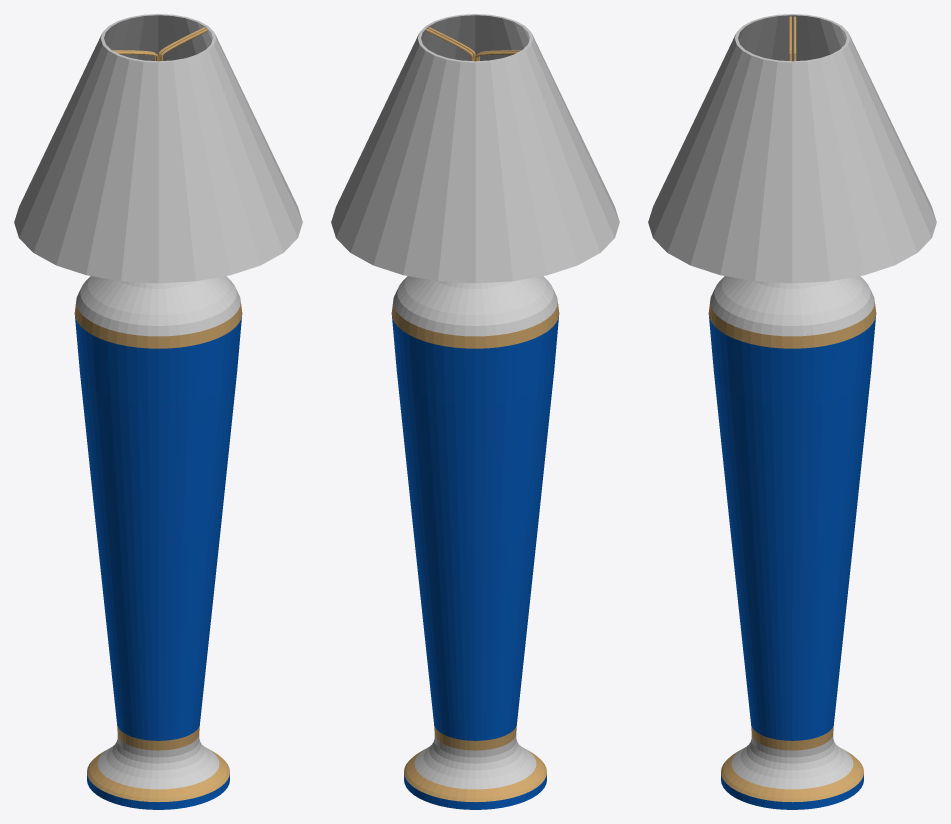
Rendered from pedestal-vase-lamp.obj.
3 renders of one model, left to right at view 1: azimuth 30°, elevation 25°; view 2: azimuth 150°, elevation 25°; view 3: azimuth 270°, elevation 25°, orthographic.
Parts seen in each view (by area): view 1: Pedestal_vase, Lamp_shade; view 2: Pedestal_vase, Lamp_shade; view 3: Pedestal_vase, Lamp_shade.
Boxes of the visible parts, box(x1,y1,x2,y2) form: Pedestal_vase: box(74, 276, 242, 809); Lamp_shade: box(14, 14, 302, 283); Pedestal_vase: box(391, 276, 559, 809); Lamp_shade: box(331, 14, 619, 283); Pedestal_vase: box(708, 276, 876, 809); Lamp_shade: box(648, 14, 936, 283).
Bounding box in the file's own units: 2.83 × 8.01 × 2.83.
